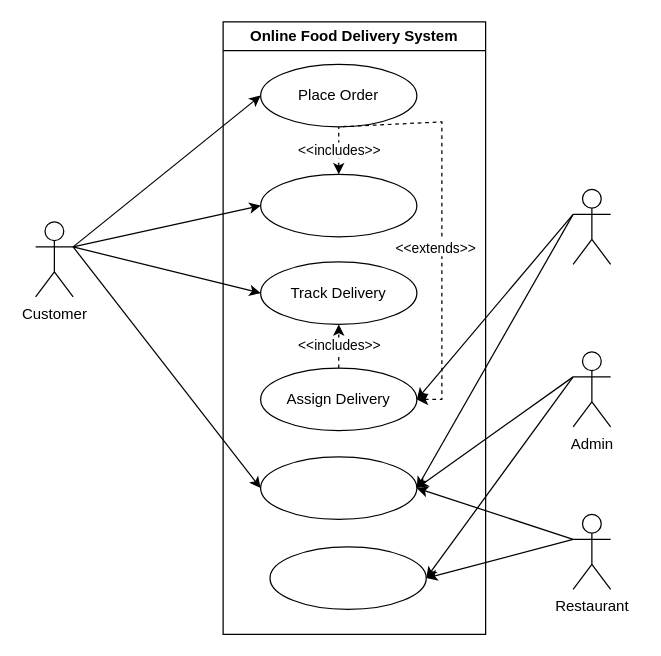
Some shapes in this 661 by 656 pixel diagram are drawn without their labels. Each missing label, with the centre of its shape:
"Delivery Agent" goes at pixel 591 226.
"Login" goes at pixel 338 487.
"Make Payment" goes at pixel 338 205.
"Manage Menu" goes at pixel 347 577.
